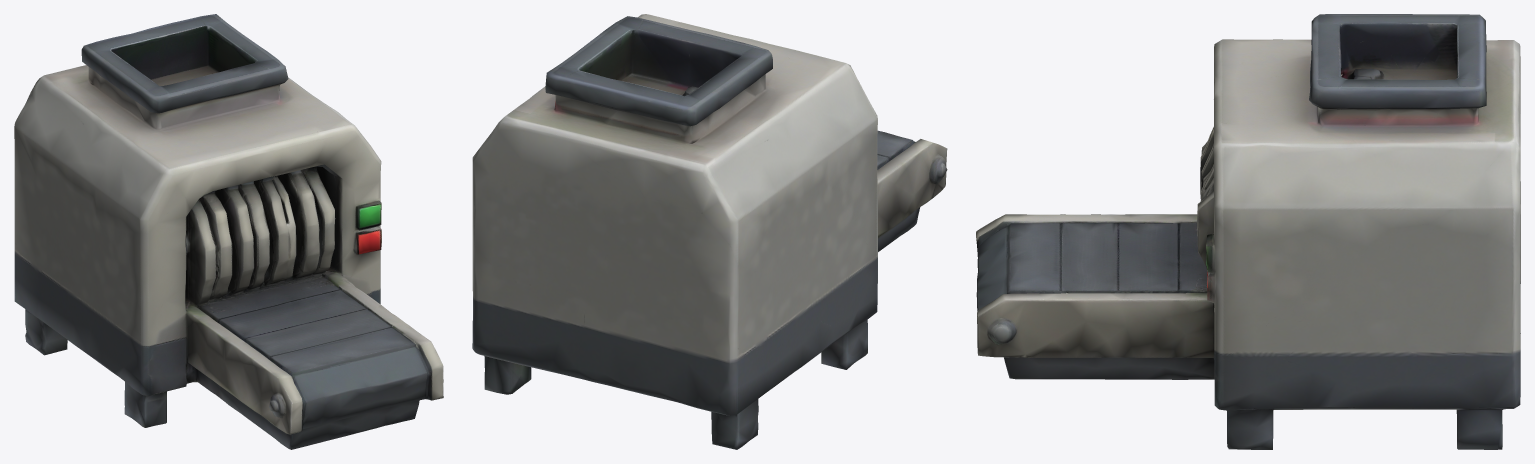
The model's file is Meshy_AI_Slide_Machine_0422175659_texture.fbx.
3 views of the same model, side by side, from view 1: azimuth 30°, elevation 25°; view 2: azimuth 150°, elevation 25°; view 3: azimuth 270°, elevation 25° (orthographic). The views are drawn at different scales.
Parts seen in each view (by area): view 1: Mesh_0; view 2: Mesh_0; view 3: Mesh_0.
Boxes of the visible parts, <box> form: Mesh_0: <box>14,14,443,449</box>; Mesh_0: <box>472,14,947,449</box>; Mesh_0: <box>976,14,1520,449</box>.
Size of the model in its own units: 118 by 136 by 200.
Materials: 1 (1 with a texture image).
